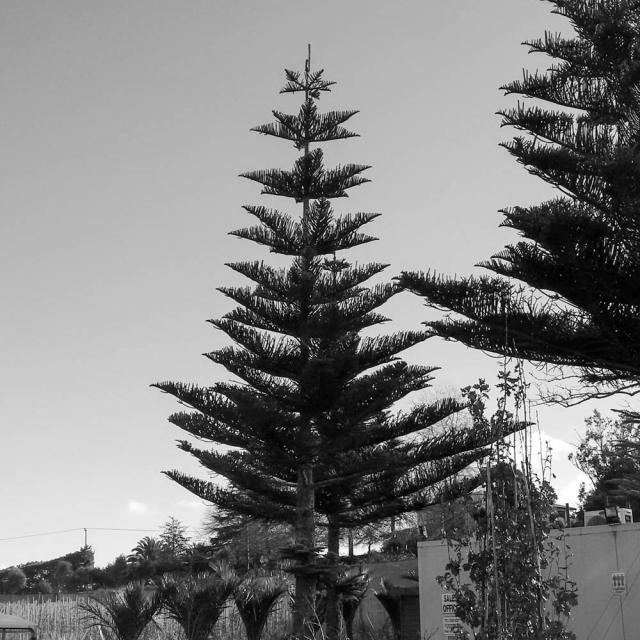Araucaria heterophylla: (140, 29, 513, 635)
